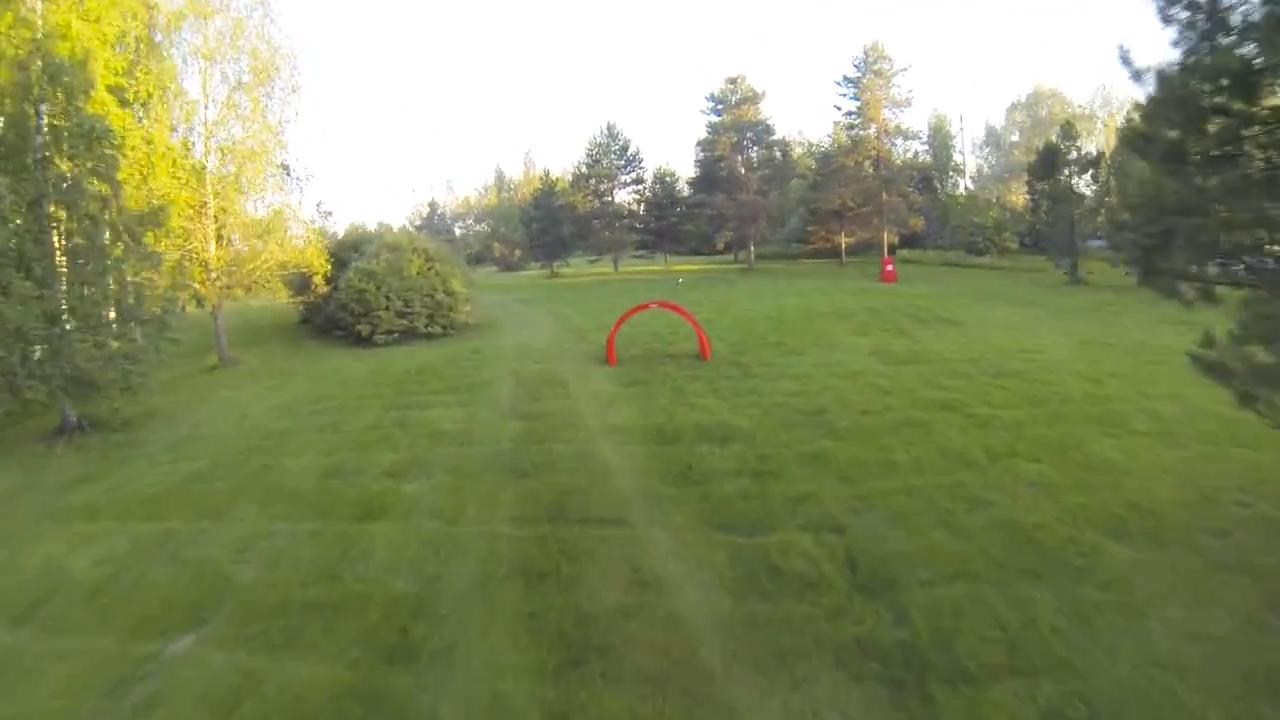gate: (603, 298, 716, 364)
